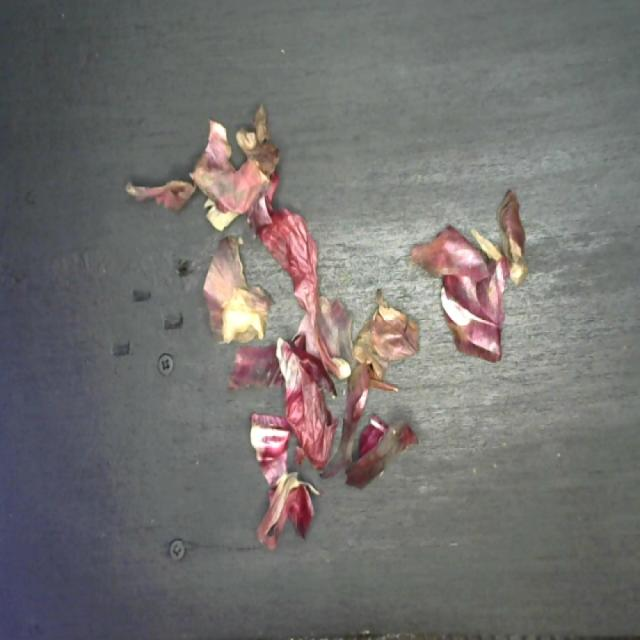biodegradable: (118, 98, 531, 558)
